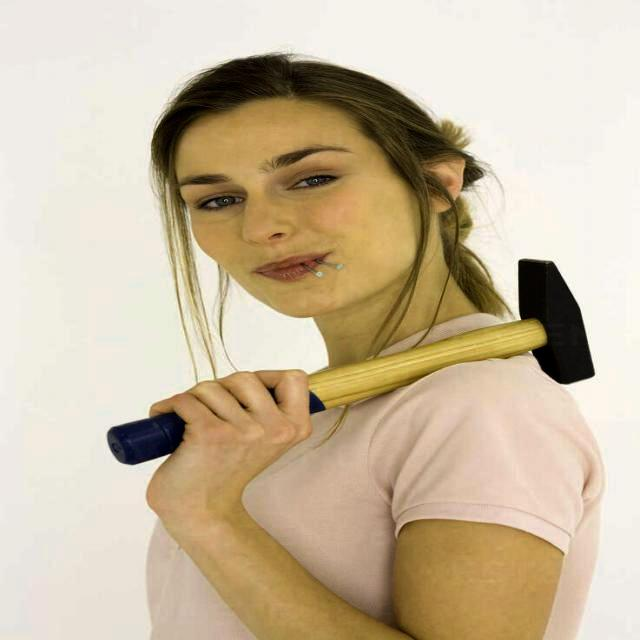hammer: (96, 246, 610, 473)
